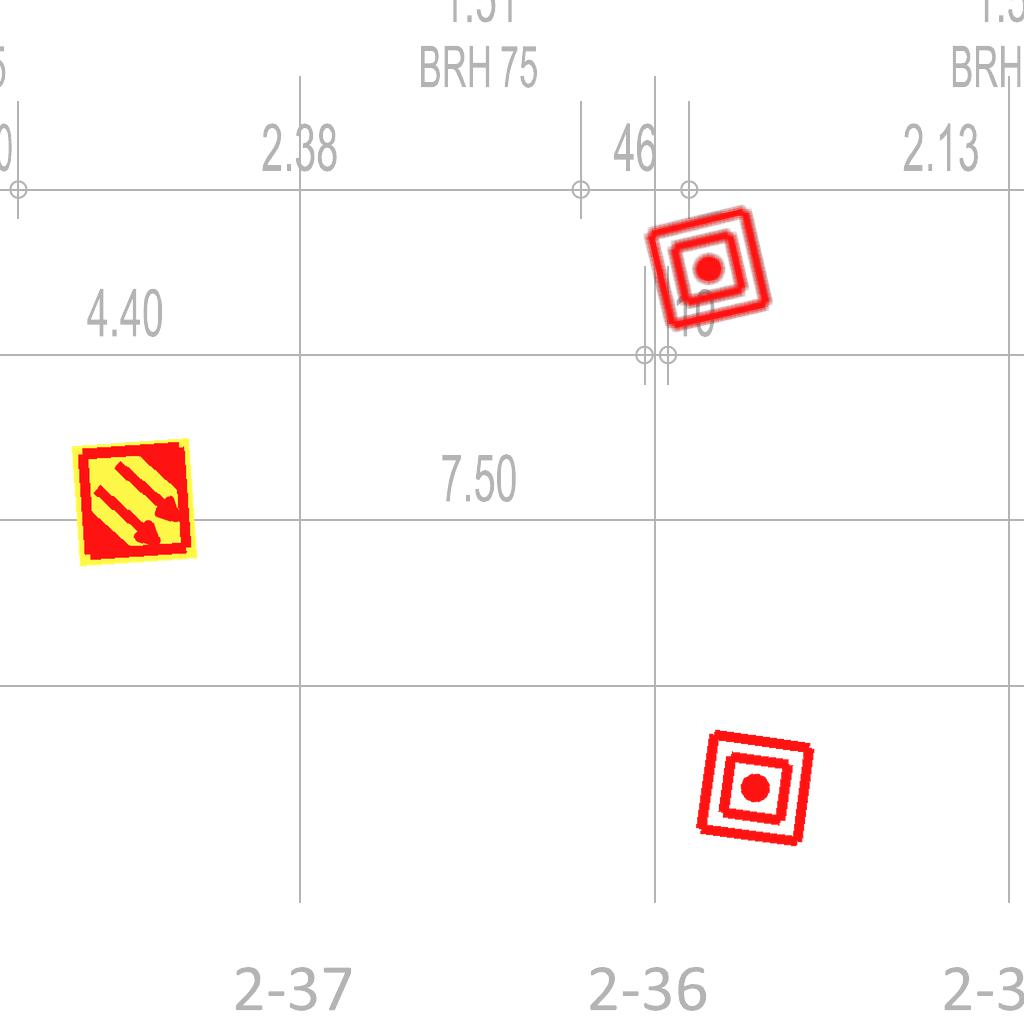ASR_Ansaugrauchmelder: (67, 435, 202, 570)
NAM-Nichtautomatischer_Melder: (640, 200, 777, 337), (691, 724, 820, 853)
